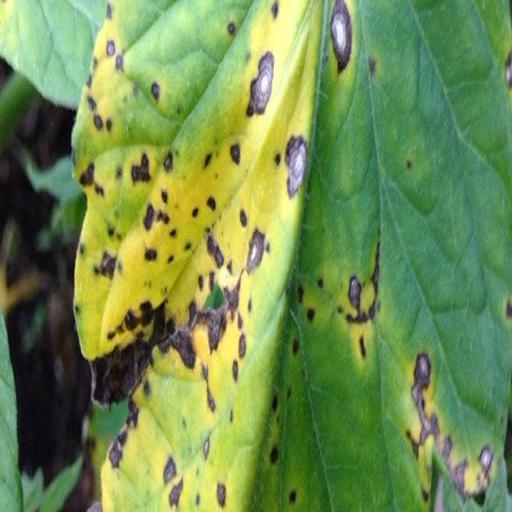Bacterial Spot: (74, 326, 208, 475)
Septorial Leaf Spot: (77, 156, 211, 320), (407, 352, 499, 506), (71, 0, 167, 142), (247, 368, 314, 508), (231, 196, 288, 288), (309, 0, 366, 84), (336, 274, 389, 341), (275, 134, 320, 197), (249, 45, 280, 119), (288, 286, 321, 352), (473, 280, 512, 330), (396, 147, 431, 184), (216, 10, 241, 47)
